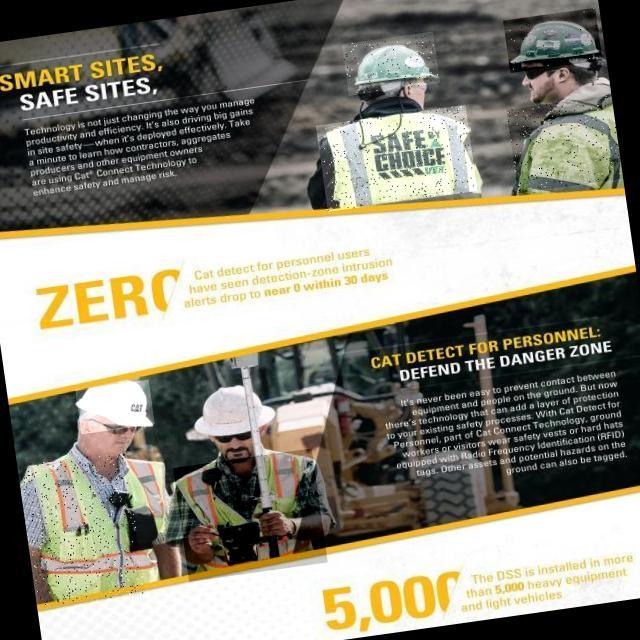Helmet: (504, 8, 605, 75), (342, 32, 440, 96), (180, 384, 286, 442), (75, 380, 155, 435)
Person: (13, 367, 169, 620), (296, 19, 489, 222), (169, 378, 337, 586), (502, 4, 631, 209)
Safety Vest: (173, 449, 328, 582), (20, 451, 146, 609), (316, 105, 479, 212), (507, 95, 624, 193)
bare-arms: (248, 502, 299, 546), (179, 519, 224, 564)
